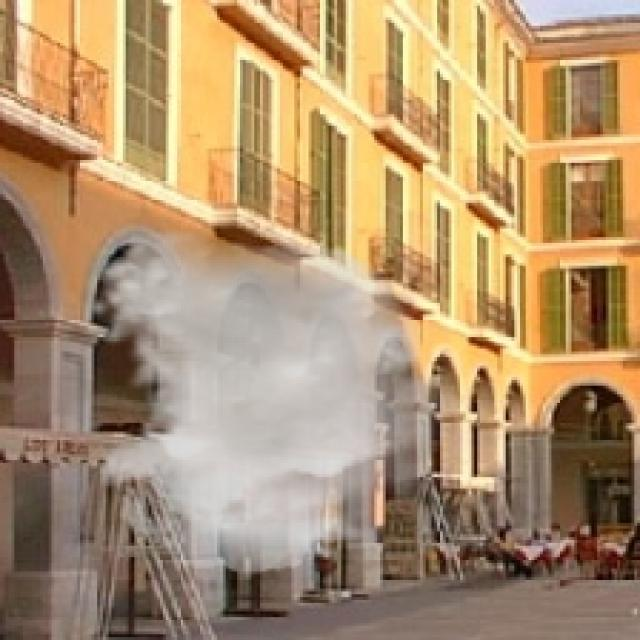Smoke: (86, 228, 474, 574)
